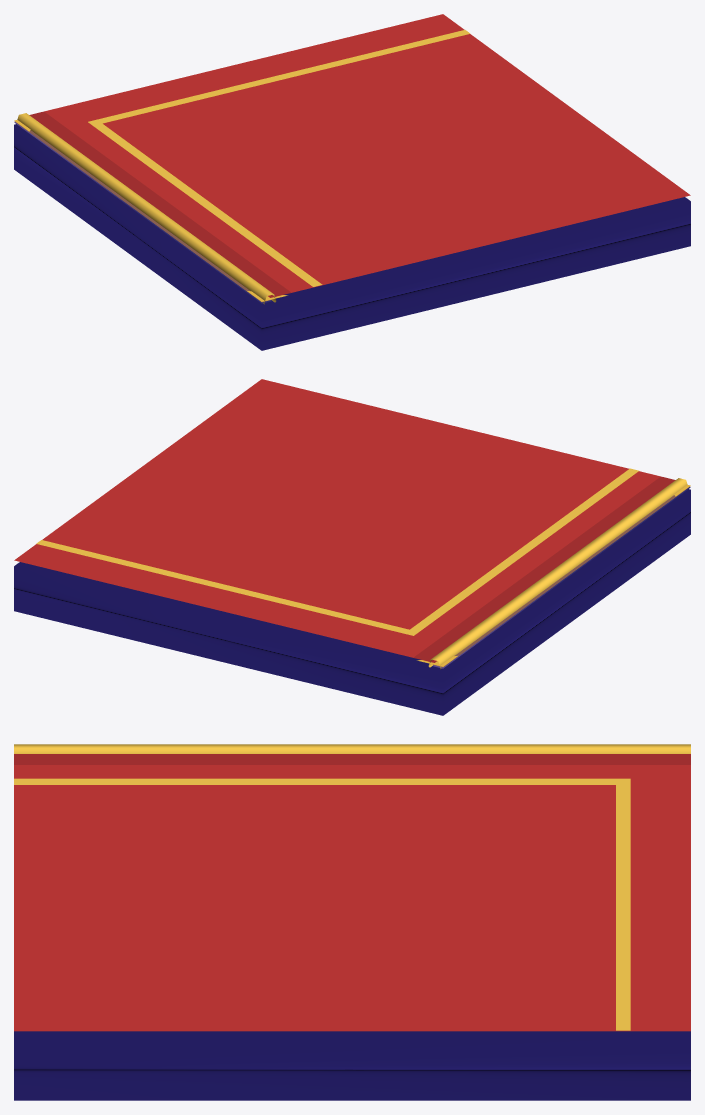
Rendered from tile_red_carpet_l_head.glb.
3 views of the same model, one above another, from view 1: azimuth 30°, elevation 25°; view 2: azimuth 150°, elevation 25°; view 3: azimuth 270°, elevation 25° (orthographic). The views are drawn at different scales.
Visible parts, largest first — view 1: Tile.001; view 2: Tile.001; view 3: Tile.001.
Part boxes in pixels (box(x1,y1,x2,y2)): Tile.001: box(14, 14, 690, 350); Tile.001: box(14, 379, 690, 715); Tile.001: box(14, 744, 690, 1100).
Size of the model in its own units: 1 by 0.1191 by 1.
